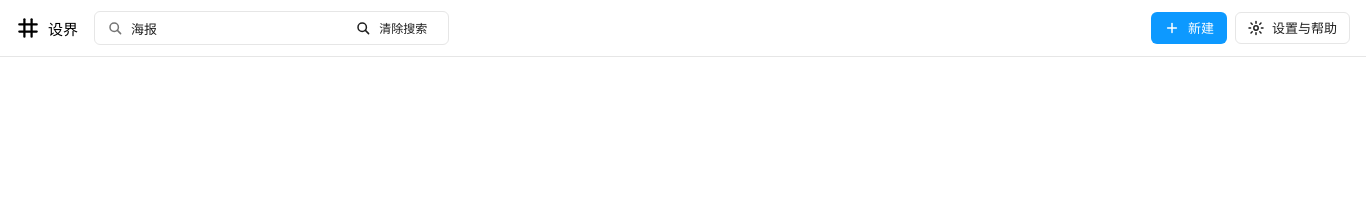
HomeTopbar · 全局搜索（B9） › 市场检索中 → 该结果线显示载入中
The image size is (1366, 202).
What coordinates should you click on to do the following:
click the search field named "搜索文件与技能资产"
I would click on:
 (235, 28)
Its box is top-left (131, 12), bottom-right (338, 44).
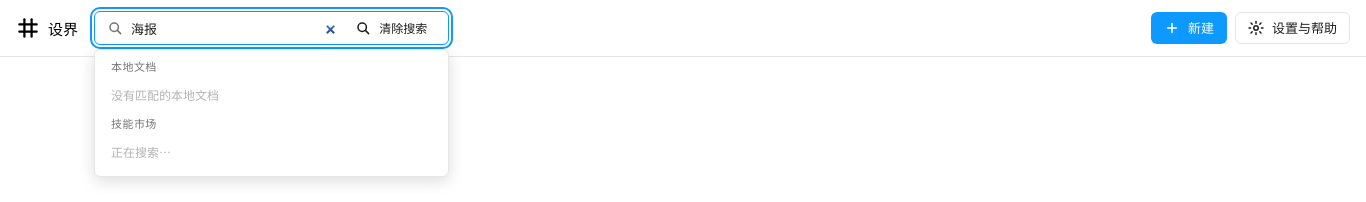
expect the text "正在搜索…" is shown: met, box top-left (111, 143), bottom-right (171, 160)
